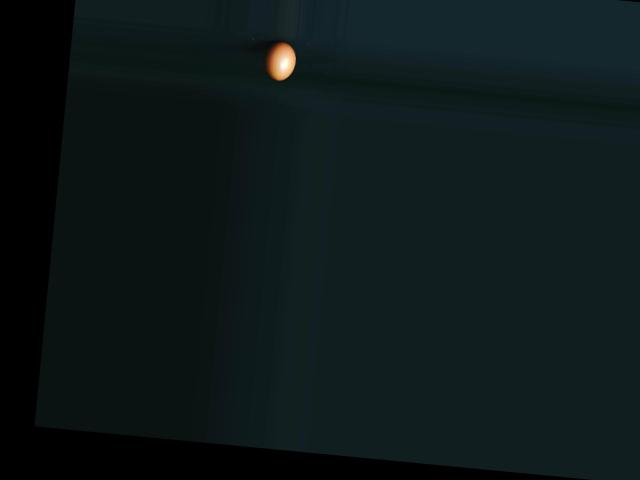egg: (263, 39, 296, 81)
